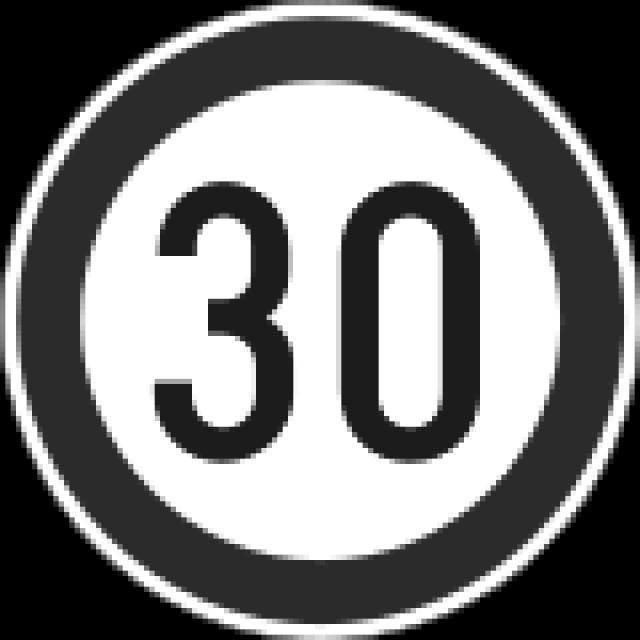speed limit 30: (21, 16, 623, 619)
